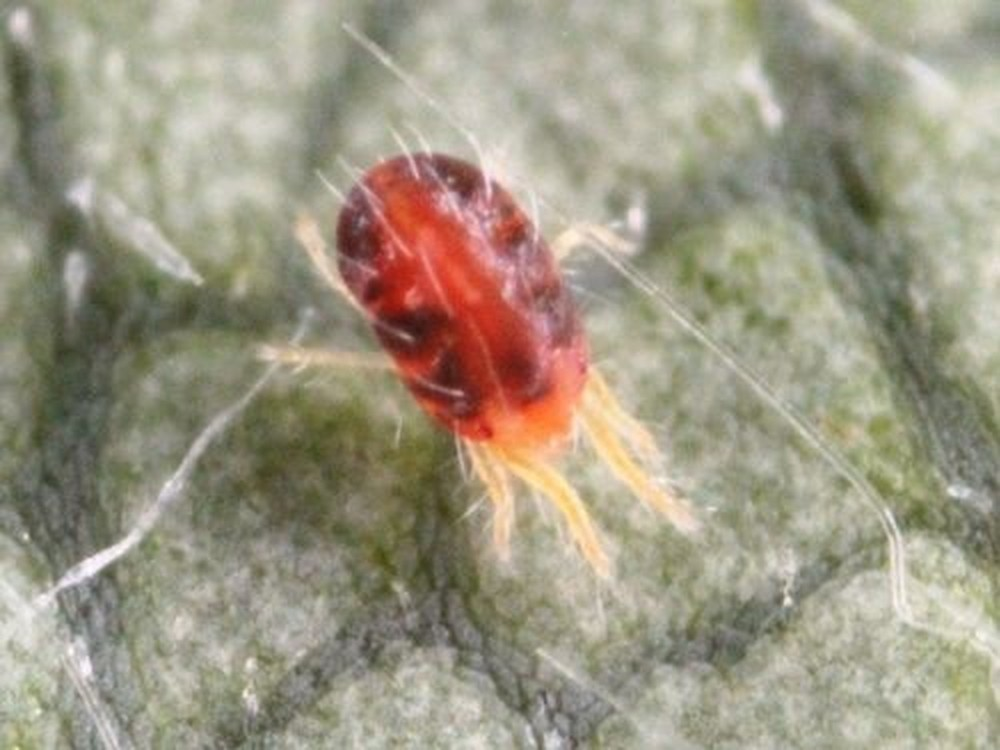Aracnido Rojo: (258, 115, 772, 616)
